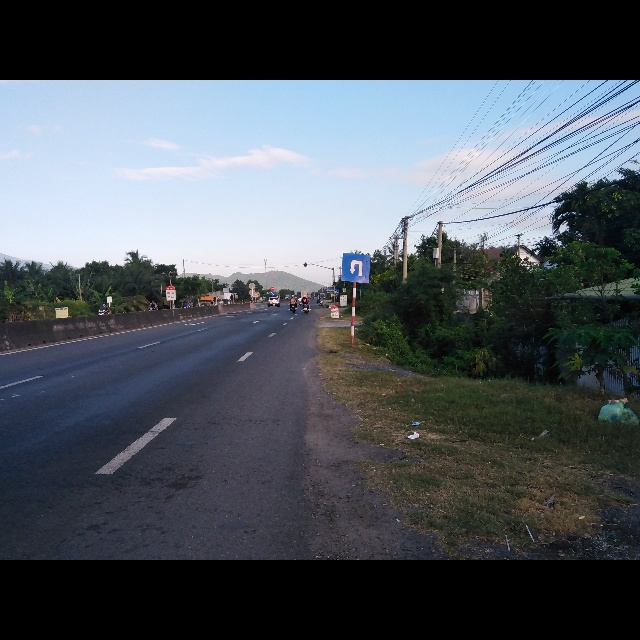Khu vực quay đầu xe: (342, 253, 371, 284)
